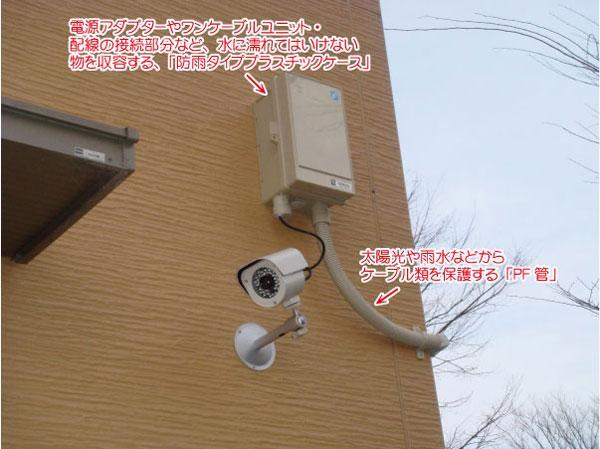tutu: (233, 248, 319, 321)
